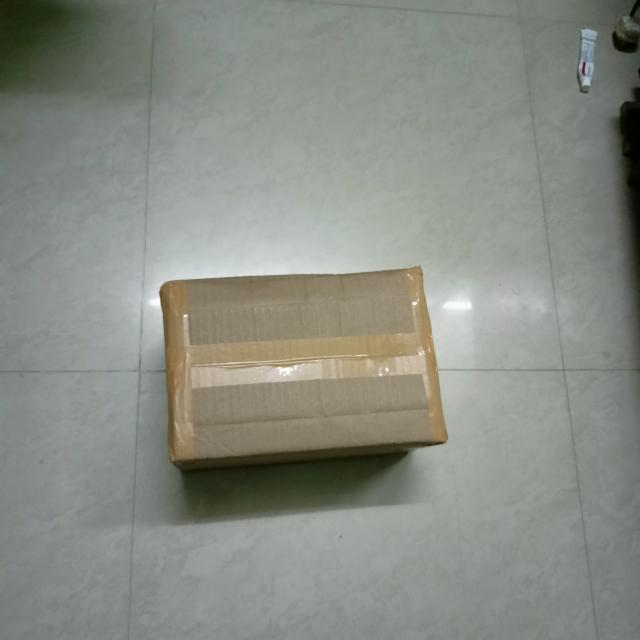box: (166, 269, 449, 458)
